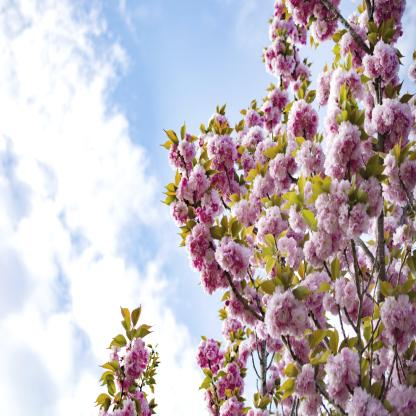YaeSakura: (92, 0, 416, 416)
